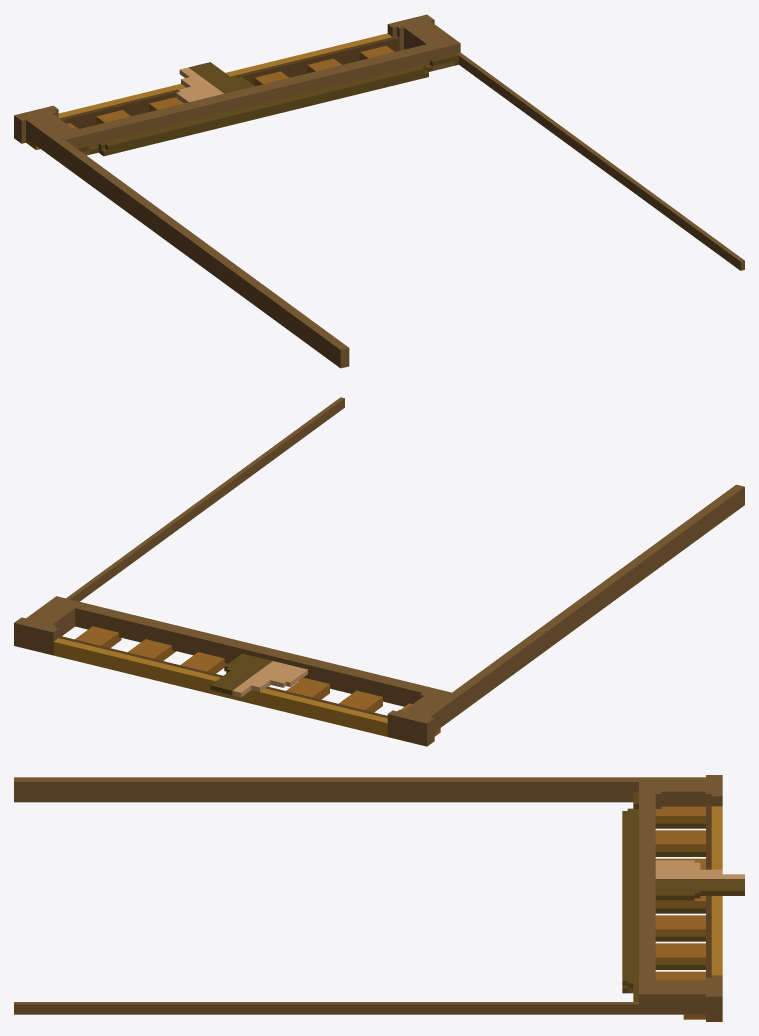
The model's file is ship-2.obj.
The picture shows the model from 3 angles, top to bottom: view 1: azimuth 30°, elevation 25°; view 2: azimuth 150°, elevation 25°; view 3: azimuth 270°, elevation 25°; orthographic projection. The views are drawn at different scales.
Size of the model in its own units: 9.4 by 0.5 by 13.1.
Materials: 1 (1 with a texture image).
